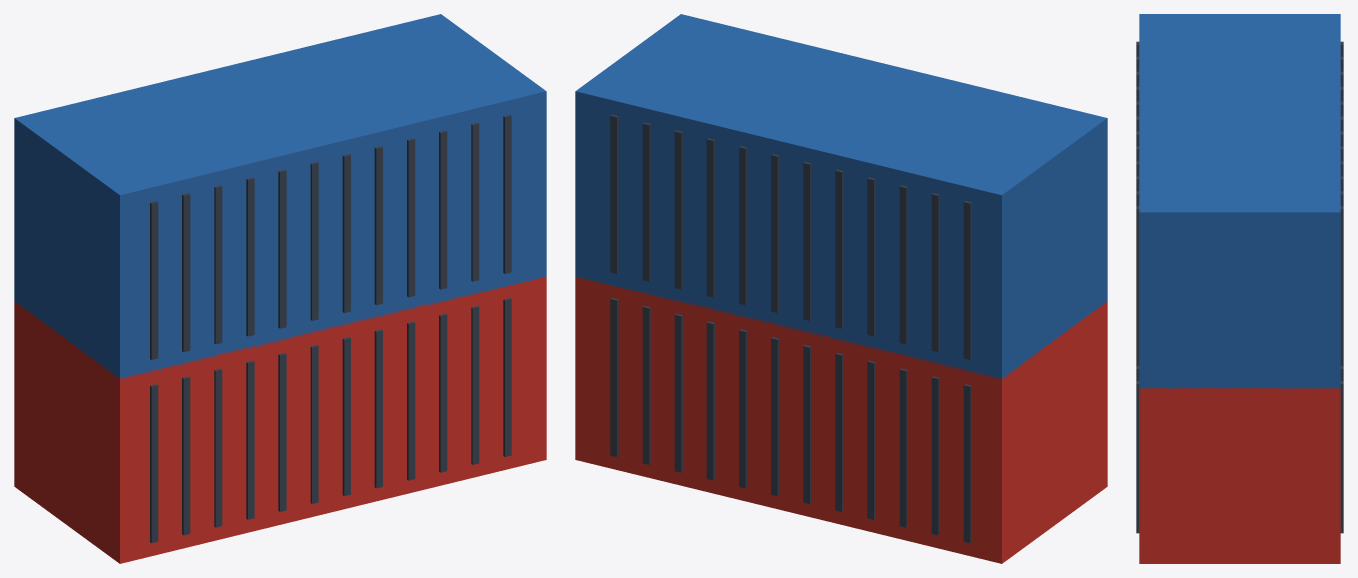
File: containerStack.glb
3 renders of one model, left to right at view 1: azimuth 30°, elevation 25°; view 2: azimuth 150°, elevation 25°; view 3: azimuth 270°, elevation 25°, orthographic. The views are drawn at different scales.
Visible parts, largest first — view 1: containerStack_blue, containerStack_red, containerStack_steelDark; view 2: containerStack_blue, containerStack_red, containerStack_steelDark; view 3: containerStack_blue, containerStack_red, containerStack_steelDark.
Boxes of the visible parts, x1,y1,x2,y2 form: containerStack_blue: [14, 14, 546, 380]; containerStack_red: [14, 277, 546, 563]; containerStack_steelDark: [150, 114, 511, 543]; containerStack_blue: [575, 14, 1107, 379]; containerStack_red: [575, 277, 1107, 563]; containerStack_steelDark: [610, 114, 971, 543]; containerStack_blue: [1139, 14, 1340, 389]; containerStack_red: [1139, 387, 1340, 563]; containerStack_steelDark: [1136, 41, 1343, 533].
Size of the model in its own units: 7.7 by 6.36 by 3.4.
